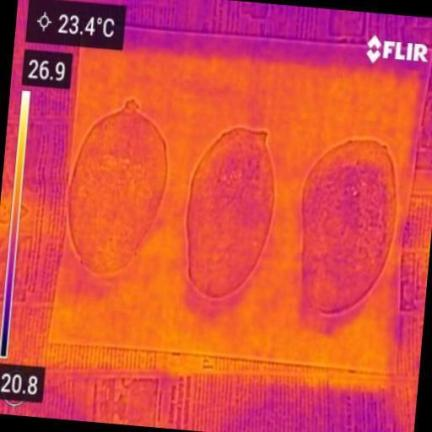mango: (69, 99, 166, 273), (301, 141, 397, 313), (186, 128, 273, 298)
